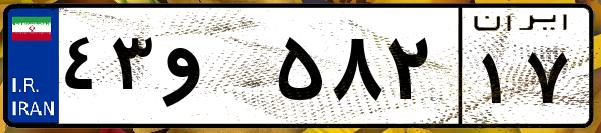1: (475, 38, 525, 113)
2: (385, 28, 445, 110)
3: (110, 28, 158, 98)
4: (57, 26, 110, 100)
5: (270, 28, 330, 110)
7: (525, 38, 570, 115)
8: (330, 28, 385, 110)
و: (158, 20, 270, 120)
